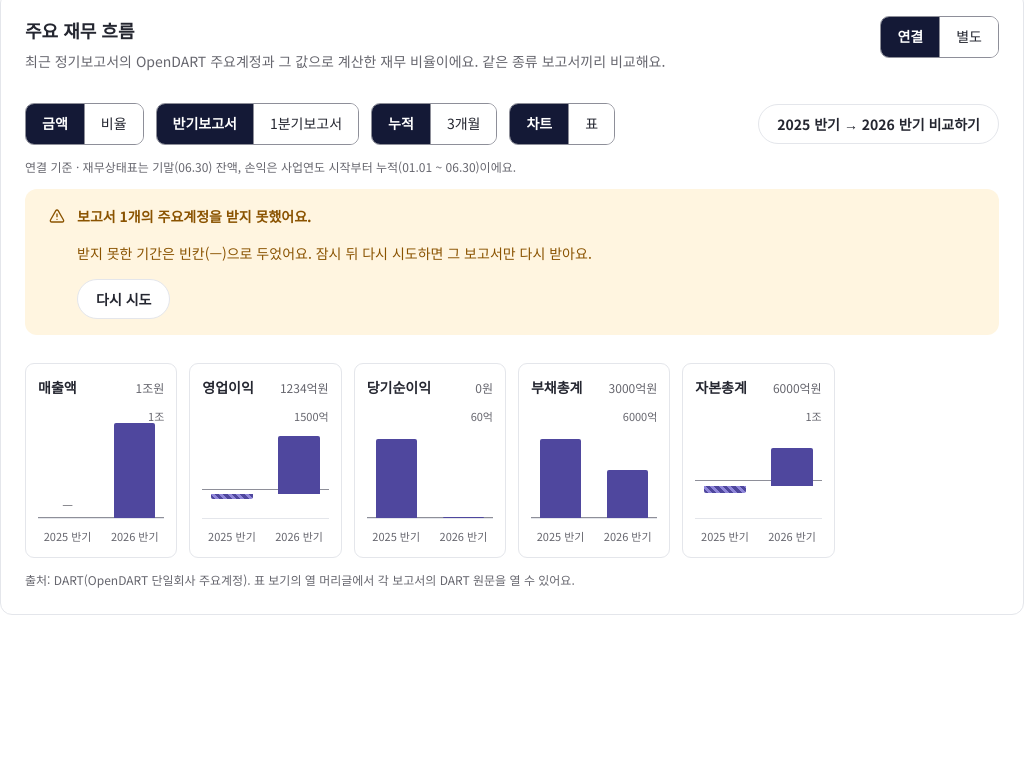
it: 재무 비율 보기 › 3개월 기준이면 손익 비율을 3개월 금액으로 다시 계산한다
Check: the element named "보여 줄 값" is shown, box [25, 103, 144, 145]
Step 1. Click the button "비율" → (113,124), box [84, 104, 143, 144]
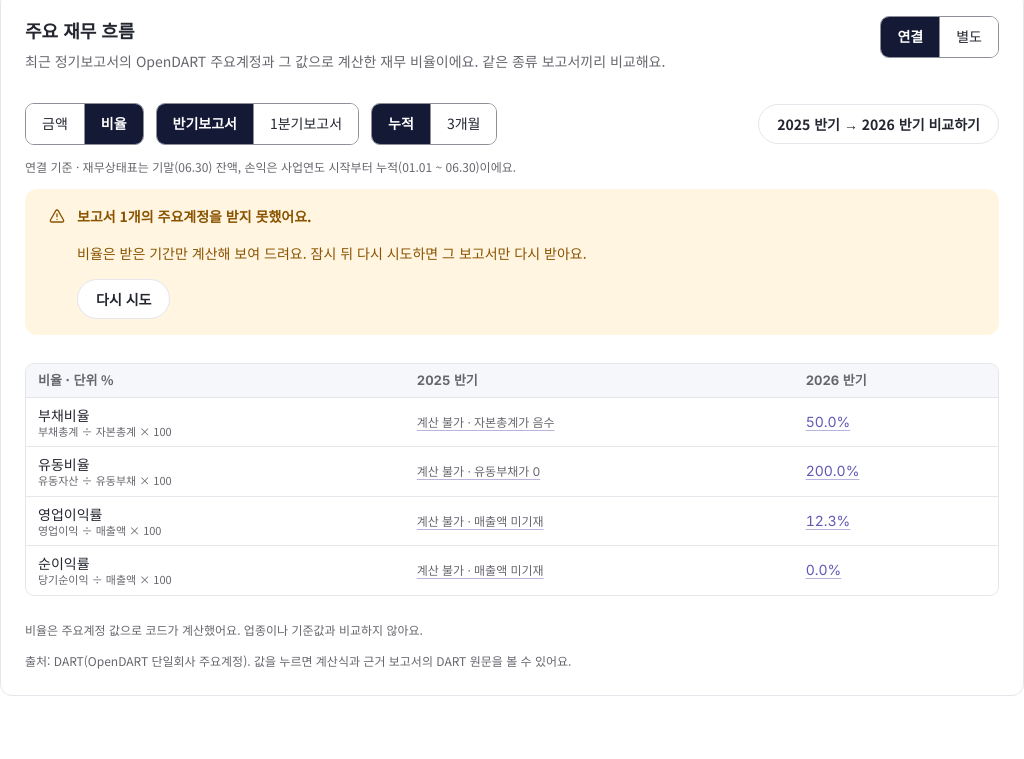
Step 2. Click the button "3개월" → (463,124), box [430, 104, 496, 144]
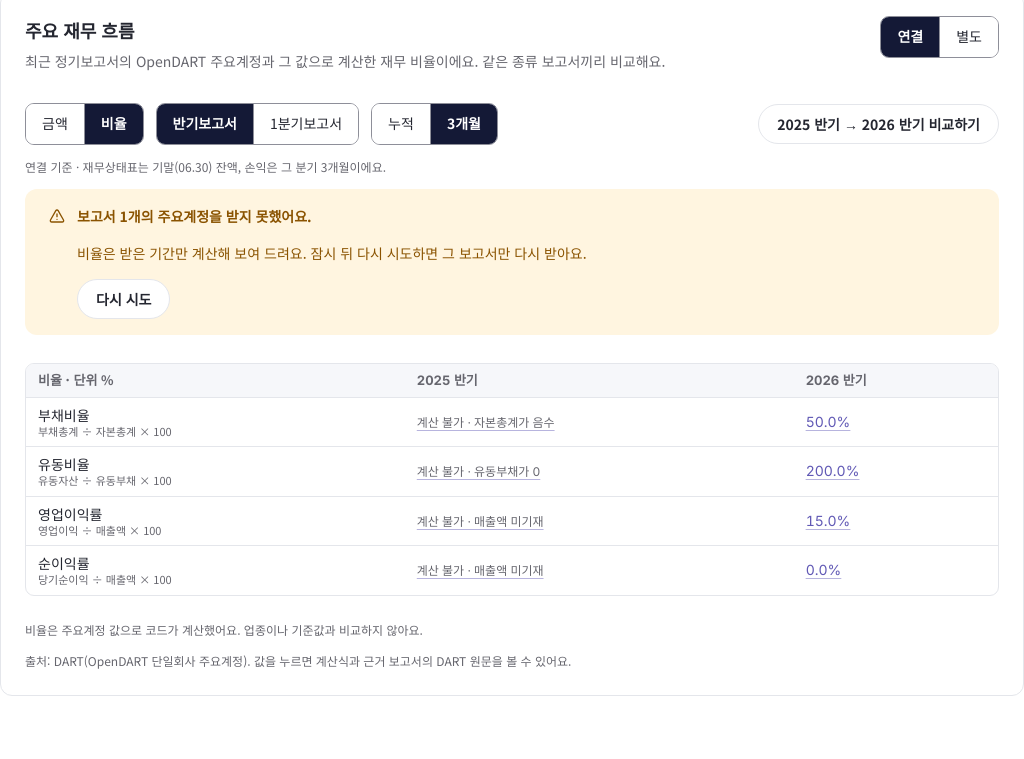
Step 3. Click the button named "2026 반기 영업이익률 15.0%" → (828,521), box [806, 512, 850, 530]
(page scrolled)
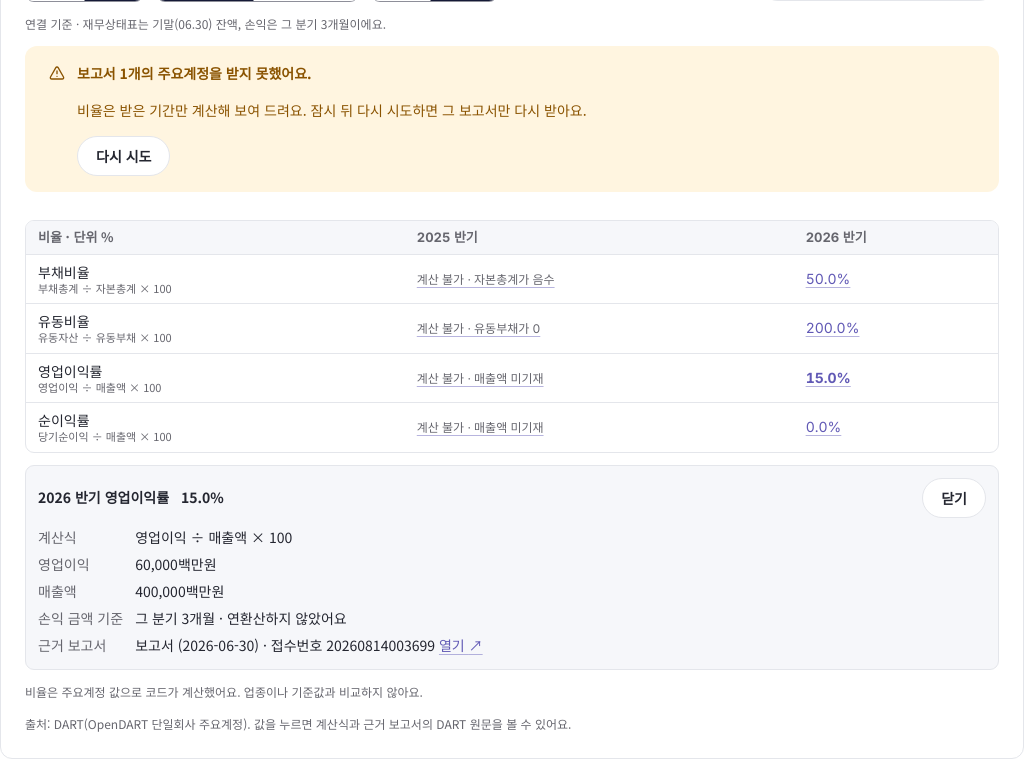
Check: the text "그 분기 3개월 · 연환산하지 않았어요" is shown, box [135, 608, 347, 628]
